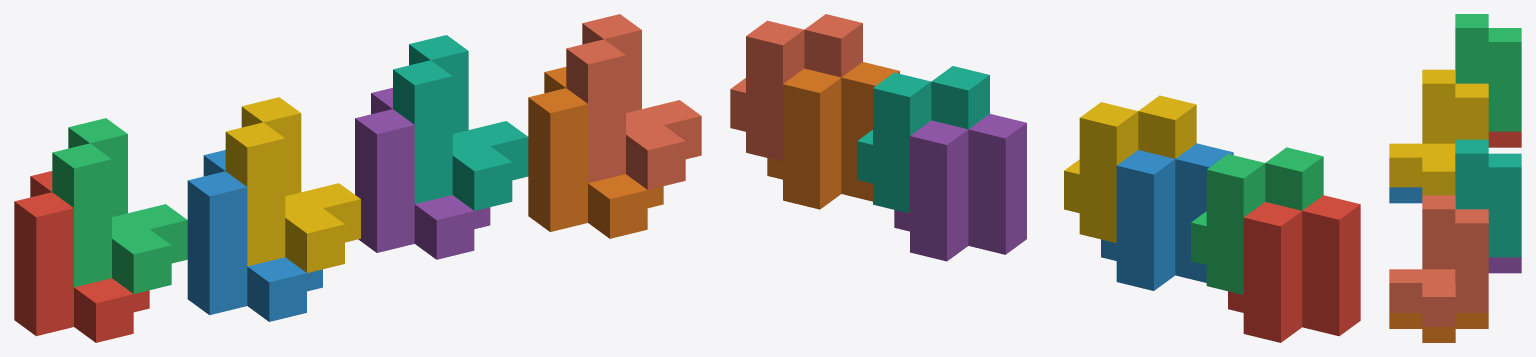
Rendered from tiling.obj.
The picture shows the model from 3 angles, left to right: view 1: azimuth 30°, elevation 25°; view 2: azimuth 150°, elevation 25°; view 3: azimuth 270°, elevation 25°; orthographic projection. The views are drawn at different scales.
Visible parts, largest first — view 1: copy_1_domain_4, copy_1_domain_7, copy_1_domain_3, copy_1_domain_8, copy_1_domain_2, copy_1_domain_1, copy_1_domain_6, copy_1_domain_5; view 2: copy_1_domain_1, copy_1_domain_5, copy_1_domain_2, copy_1_domain_6, copy_1_domain_3, copy_1_domain_4, copy_1_domain_7, copy_1_domain_8; view 3: copy_1_domain_8, copy_1_domain_4, copy_1_domain_7, copy_1_domain_3, copy_1_domain_6, copy_1_domain_1, copy_1_domain_2, copy_1_domain_5.
Part boxes in pixels (left/top/right/bottom): copy_1_domain_4: left=225, top=97, right=360, bottom=272; copy_1_domain_7: left=393, top=35, right=528, bottom=210; copy_1_domain_3: left=52, top=118, right=187, bottom=293; copy_1_domain_8: left=566, top=14, right=701, bottom=189; copy_1_domain_2: left=187, top=150, right=322, bottom=321; copy_1_domain_1: left=14, top=171, right=149, bottom=342; copy_1_domain_6: left=528, top=67, right=663, bottom=238; copy_1_domain_5: left=355, top=87, right=490, bottom=259; copy_1_domain_1: left=1228, top=195, right=1360, bottom=342; copy_1_domain_5: left=894, top=114, right=1026, bottom=261; copy_1_domain_2: left=1101, top=143, right=1233, bottom=290; copy_1_domain_6: left=767, top=62, right=899, bottom=209; copy_1_domain_3: left=1191, top=147, right=1323, bottom=294; copy_1_domain_4: left=1064, top=95, right=1196, bottom=242; copy_1_domain_7: left=857, top=66, right=989, bottom=213; copy_1_domain_8: left=730, top=14, right=862, bottom=161; copy_1_domain_8: left=1389, top=195, right=1488, bottom=326; copy_1_domain_4: left=1389, top=69, right=1488, bottom=195; copy_1_domain_7: left=1455, top=139, right=1521, bottom=257; copy_1_domain_3: left=1455, top=14, right=1521, bottom=131; copy_1_domain_6: left=1389, top=313, right=1488, bottom=342; copy_1_domain_1: left=1488, top=131, right=1521, bottom=147; copy_1_domain_2: left=1389, top=187, right=1422, bottom=203; copy_1_domain_5: left=1488, top=257, right=1521, bottom=273.
Size of the model in its own units: 17 by 4 by 4.
